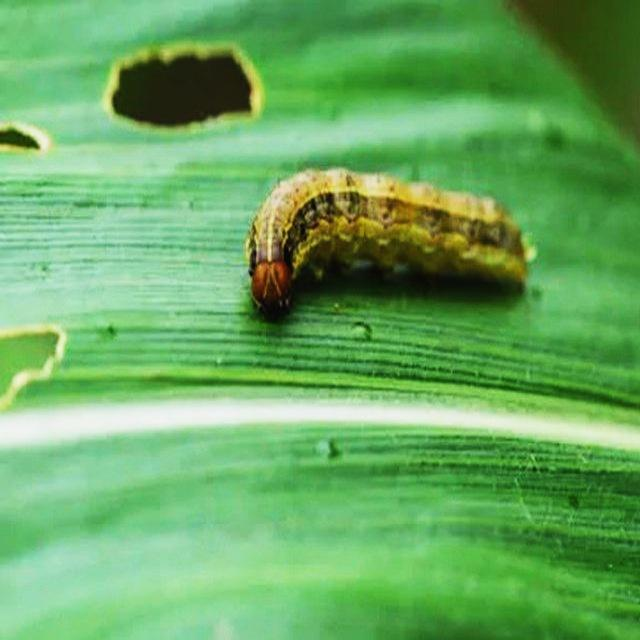worm: (244, 165, 537, 323)
